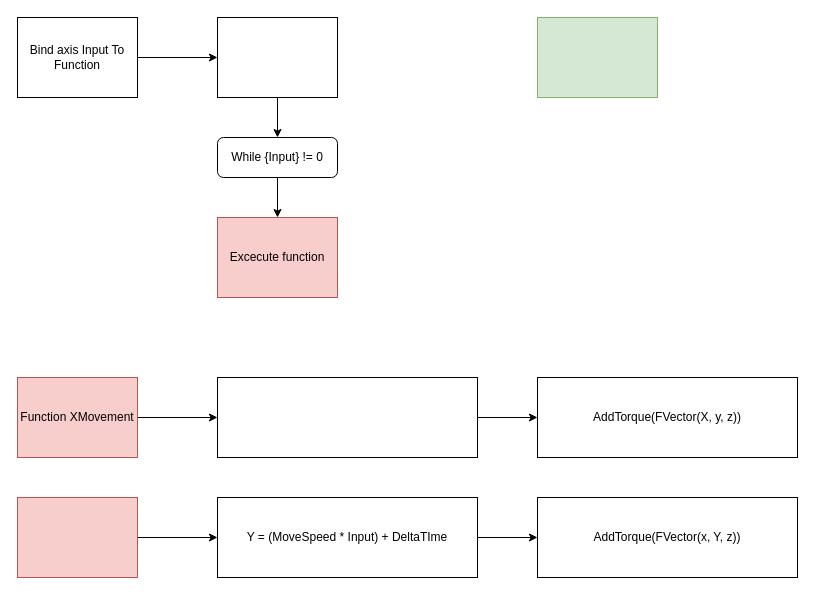
Some shapes in this 815 by 595 pixel diagram are drawn without their labels. The centre of each missing label's shape, as x and y in pixels:
"Excecute function when input detected" goes at (x=277, y=57).
"Function YMovement" goes at (x=77, y=537).
"FVector (x,y,z)" goes at (x=597, y=57).
"X = (MoveSpeed * Input) + DeltaTIme" goes at (x=347, y=417).
